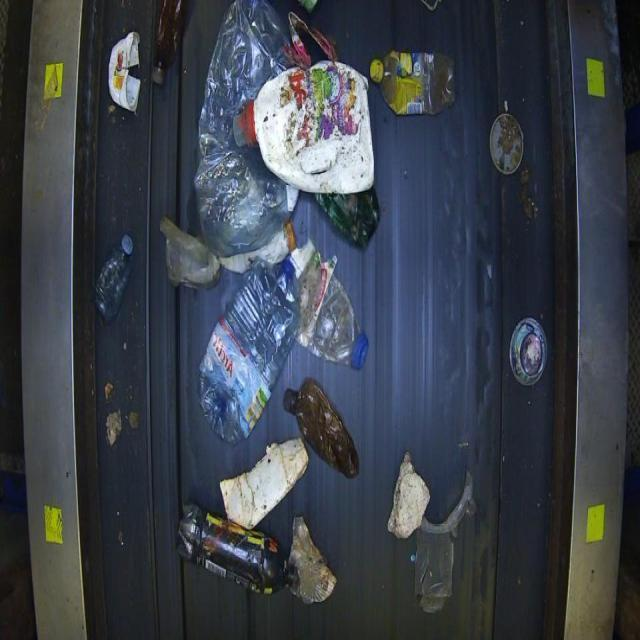cups: (176, 504, 288, 595)
trashbin: (11, 0, 632, 639)
